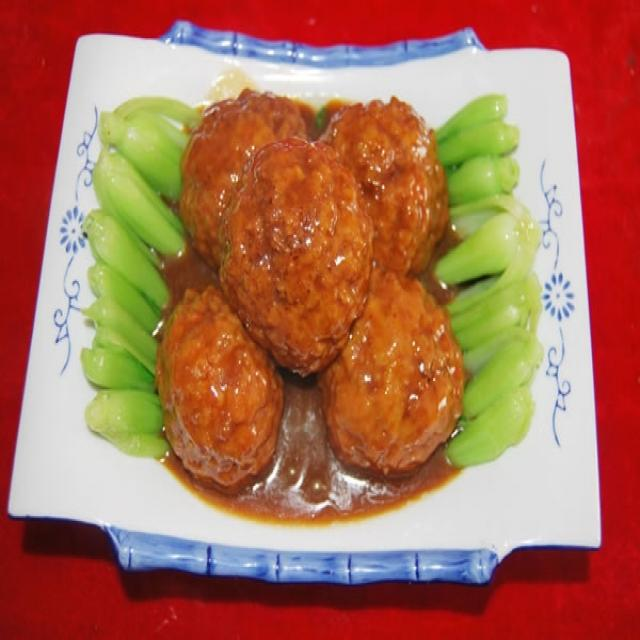Meatball: (210, 125, 377, 386), (321, 265, 478, 491), (150, 281, 292, 486)
